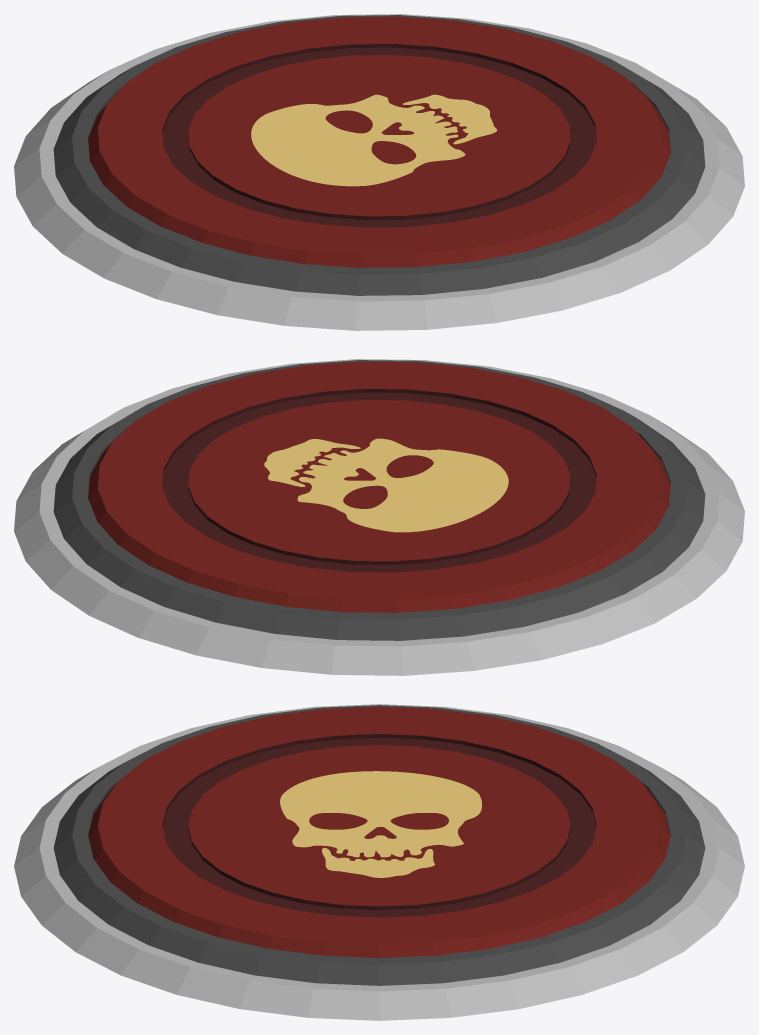
File: RoundPressurePlateSkull.fbx
3 renders of one model, top to bottom at view 1: azimuth 30°, elevation 25°; view 2: azimuth 150°, elevation 25°; view 3: azimuth 270°, elevation 25°, orthographic.
Visible parts, largest first — view 1: Round_Pressure_Plate_With_Skull_Sign, Round_Pressure_Plate_With_Skull_Sign_Base; view 2: Round_Pressure_Plate_With_Skull_Sign, Round_Pressure_Plate_With_Skull_Sign_Base; view 3: Round_Pressure_Plate_With_Skull_Sign, Round_Pressure_Plate_With_Skull_Sign_Base.
Boxes of the visible parts, x1,y1,x2,y2 form: Round_Pressure_Plate_With_Skull_Sign: (88, 16, 670, 267); Round_Pressure_Plate_With_Skull_Sign_Base: (14, 14, 744, 330); Round_Pressure_Plate_With_Skull_Sign: (88, 361, 670, 612); Round_Pressure_Plate_With_Skull_Sign_Base: (14, 359, 744, 675); Round_Pressure_Plate_With_Skull_Sign: (88, 706, 670, 957); Round_Pressure_Plate_With_Skull_Sign_Base: (14, 704, 744, 1020).
Size of the model in its own units: 202 by 12.58 by 202.
